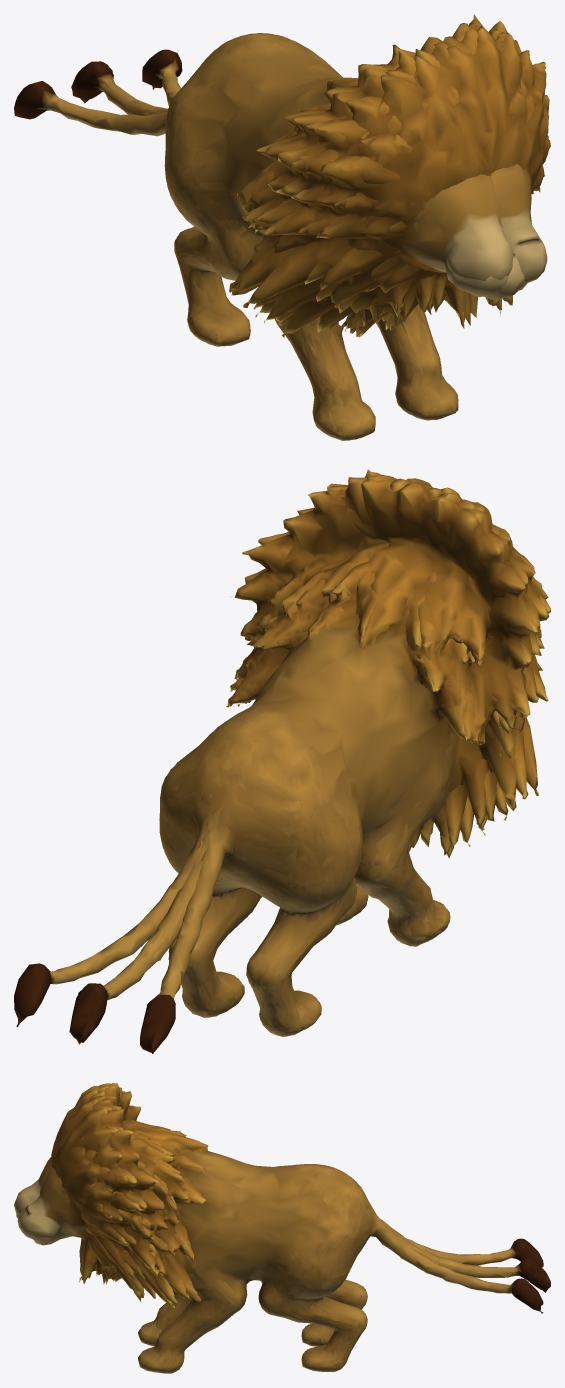
Rendered from beast_leo.glb.
3 views of the same model, one above another, from view 1: azimuth 30°, elevation 25°; view 2: azimuth 150°, elevation 25°; view 3: azimuth 270°, elevation 25° (orthographic). The views are drawn at different scales.
Visible parts, largest first — view 1: idle3, idle1, idle2, idle0; view 2: idle1, idle2, idle0, idle3; view 3: idle1, idle2, idle3, idle0.
Boxes of the visible parts, box(x1,y1,x2,y2) form: idle3: box(14, 26, 549, 440); idle1: box(142, 23, 547, 439); idle2: box(71, 14, 547, 440); idle0: box(72, 29, 550, 440); idle1: box(14, 479, 537, 1036); idle2: box(69, 477, 550, 1044); idle0: box(71, 475, 540, 1042); idle3: box(140, 470, 549, 1053); idle1: box(14, 1083, 543, 1372); idle2: box(19, 1087, 550, 1373); idle3: box(17, 1086, 543, 1373); idle0: box(16, 1083, 550, 1373).
Size of the model in its own units: 0.5279 by 0.6981 by 1.26.
